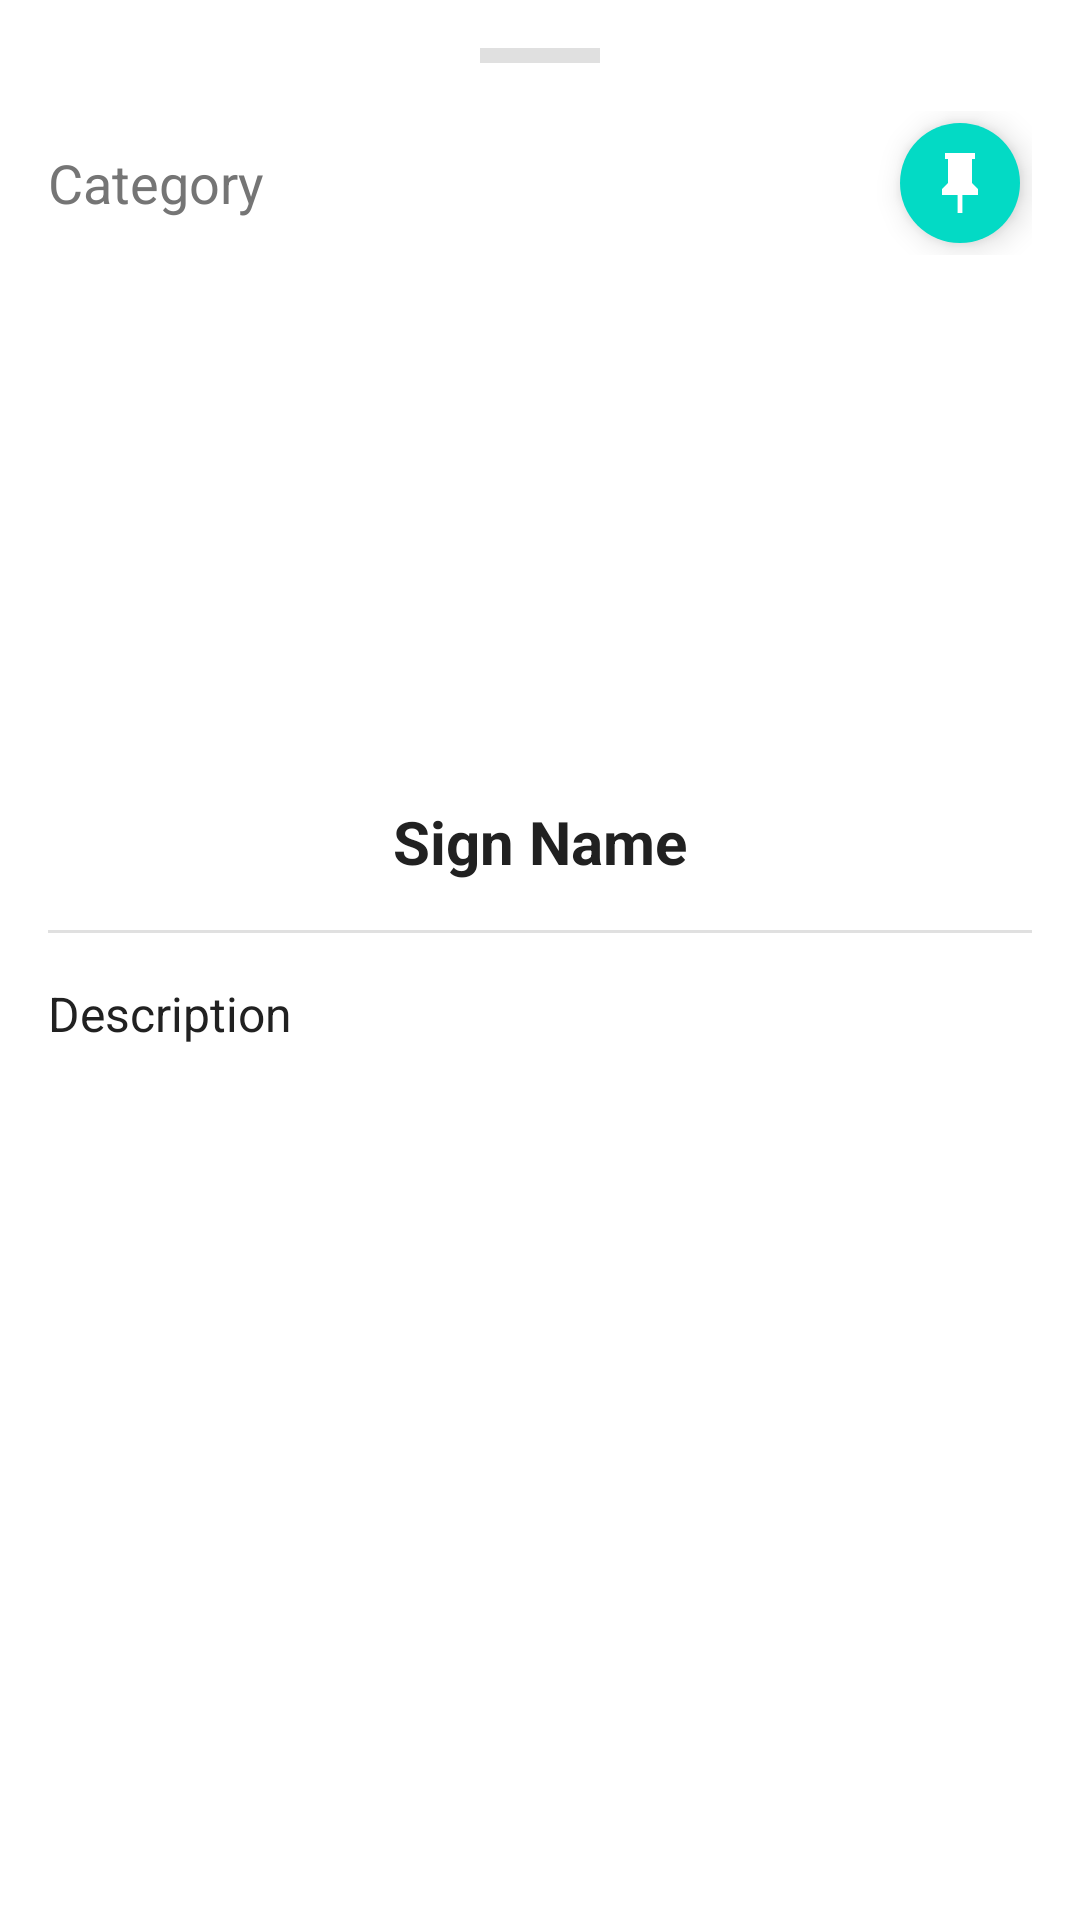

Point at icon controls on the screen. Image size 1080 × 1920, points as (x,y).
Ghim biển báo: (961,183)
